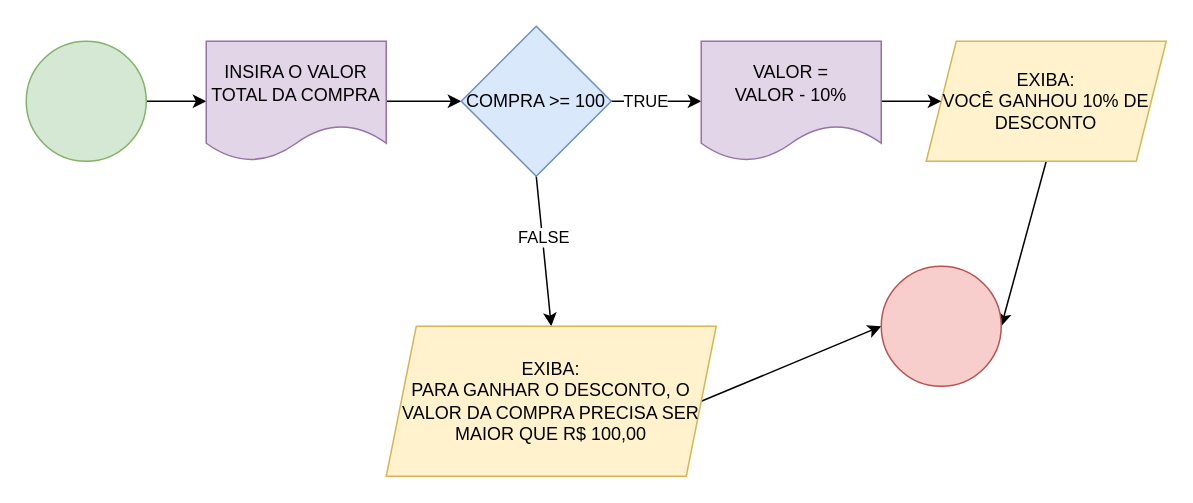
Some shapes in this 1193 by 503 pixel diagram are drawn without their labels. Each missing label, with the centre of its shape:
"FIM" belongs at point (940, 325).
"INICIO" belongs at point (85, 100).
